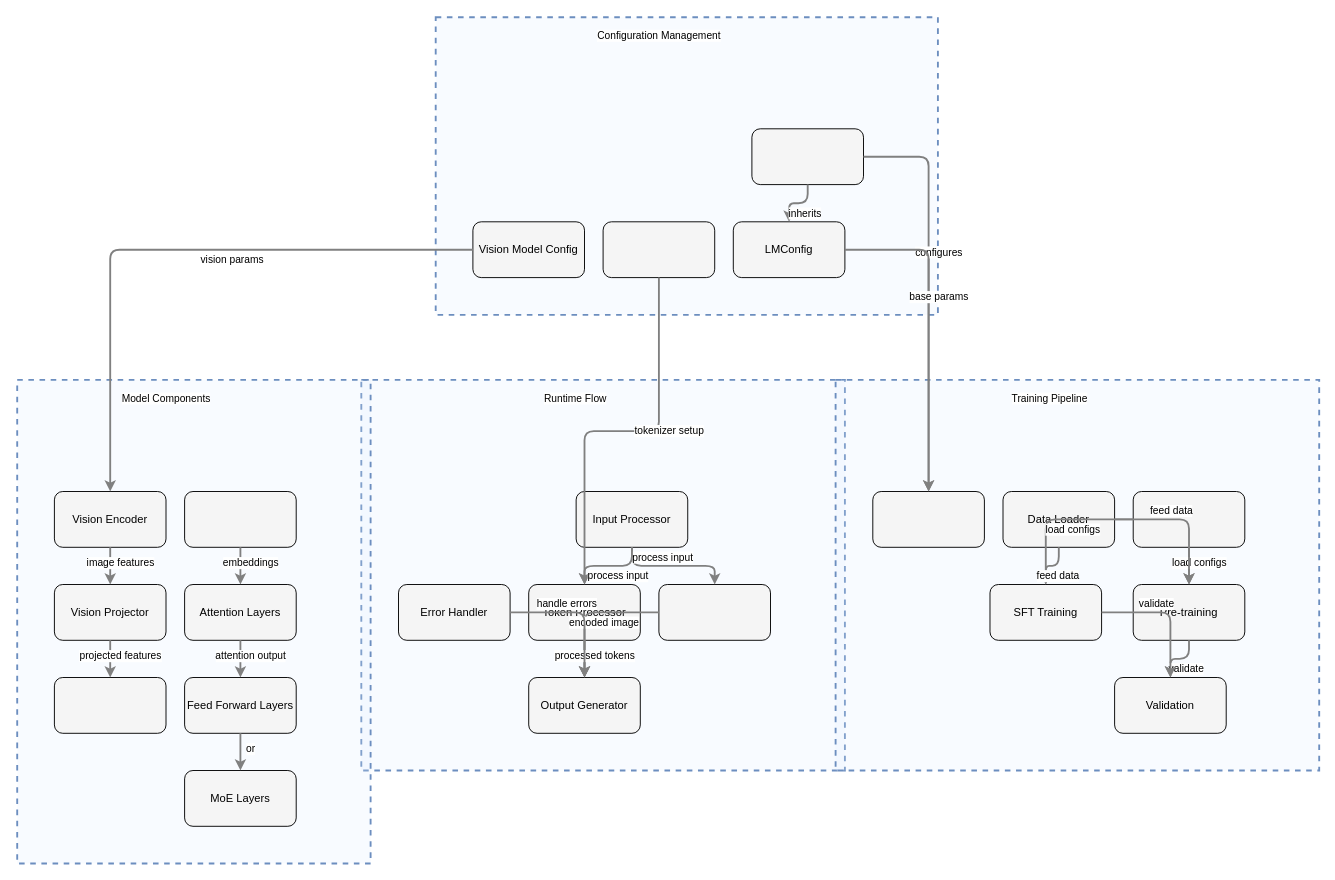
The diagram is 1335 pixels wide and 880 high, and some of its shapes have lost their labels. The shapes that lost their labels are listed below. From the top down, each one's centre as x and y in pixels, then its label:
At point 807,156: "VLMConfig".
At point 658,249: "Tokenizer Config".
At point 240,519: "Token Embedding".
At point 928,519: "Model Initialization".
At point 1188,519: "Config Loader".
At point 714,612: "Image Encoder".
At point 109,705: "LLM Core".
